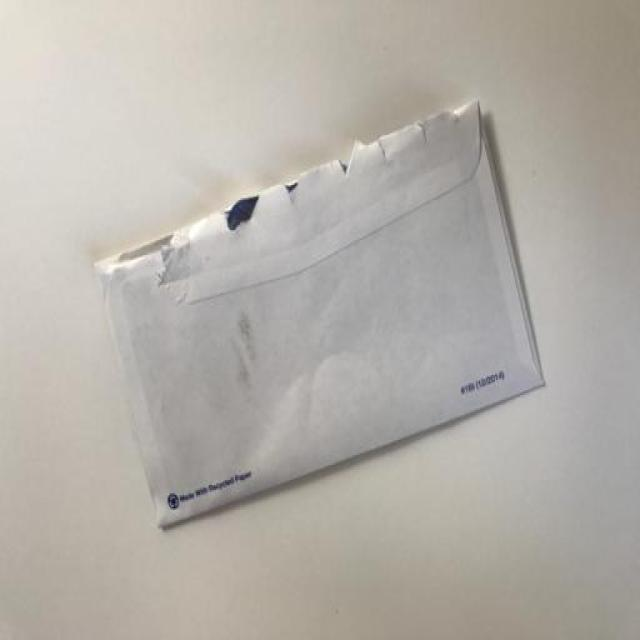Paper: (97, 95, 545, 531)
